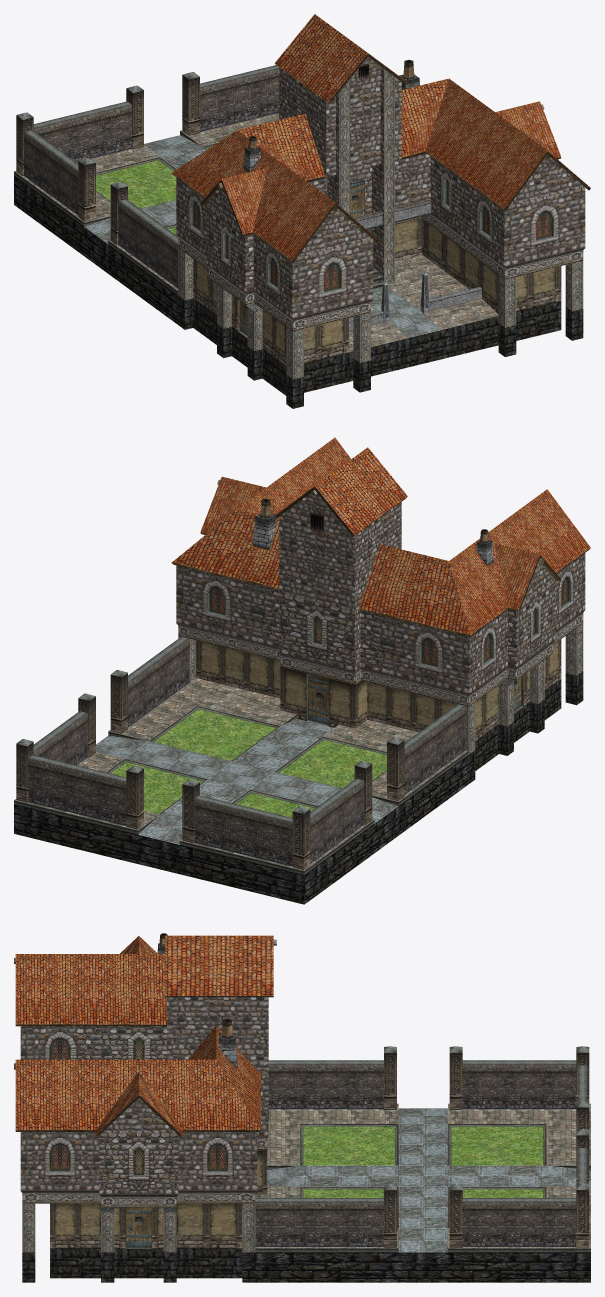
The model's file is tn4_build19.glb.
3 views of the same model, one above another, from view 1: azimuth 30°, elevation 25°; view 2: azimuth 150°, elevation 25°; view 3: azimuth 270°, elevation 25° (orthographic).
Parts seen in each view (by area): view 1: tn4_build19; view 2: tn4_build19; view 3: tn4_build19.
Part boxes in pixels (left/top/right/bottom): tn4_build19: left=14, top=14, right=590, bottom=408; tn4_build19: left=14, top=437, right=590, bottom=904; tn4_build19: left=14, top=933, right=590, bottom=1282.
Size of the model in its own units: 23.2 by 18.43 by 35.1.
24 materials, 24 textured.
